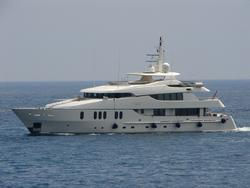yacht: (10, 35, 239, 136)
